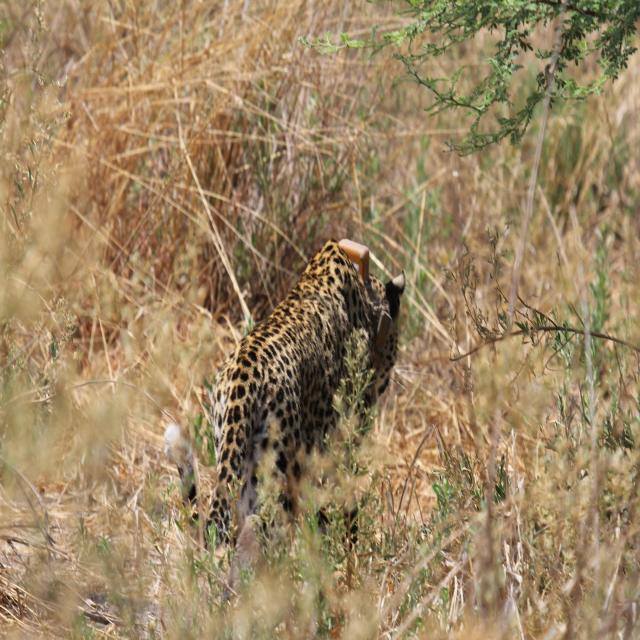Leopard: (161, 245, 411, 573)
